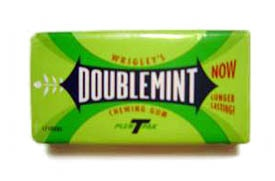grozi_6: (29, 28, 251, 155)
